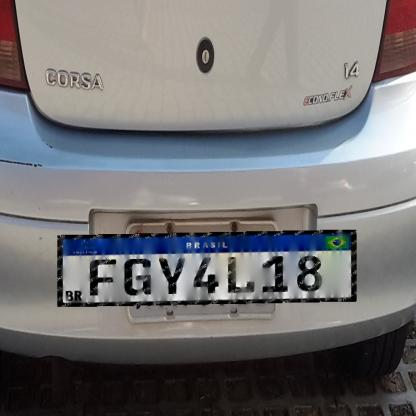PlacaM: (57, 230, 357, 307)
